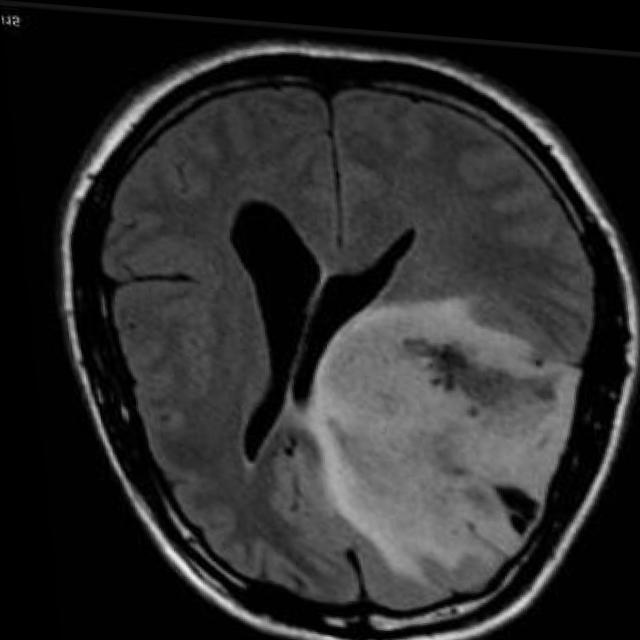Tumor: (301, 289, 572, 589)
